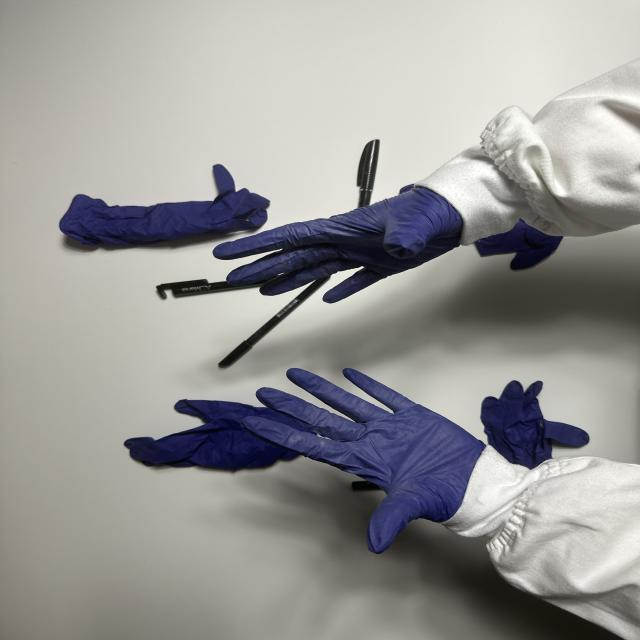gloves_contaminated: (242, 368, 485, 553), (214, 187, 462, 303)
